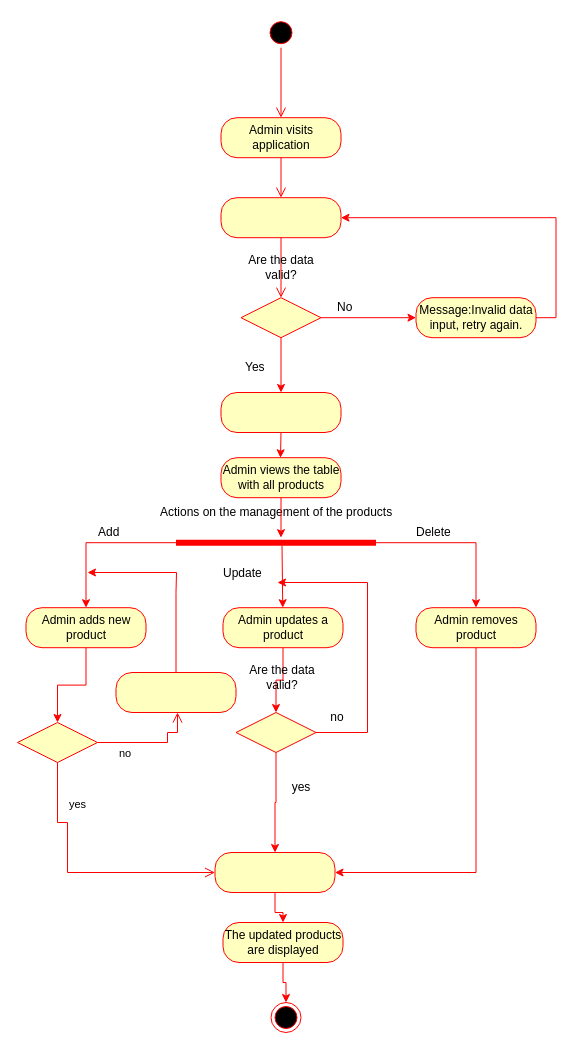
This 582x1050 diagram has some shape labels left out. Each missing label, with the box of its shape:
A field is empty or the data are not valid: (115, 672, 236, 712)
Admin enters it's credentials: (220, 197, 341, 238)
Admin logins: (220, 392, 341, 432)
All data are saved in the database: (214, 852, 335, 892)
